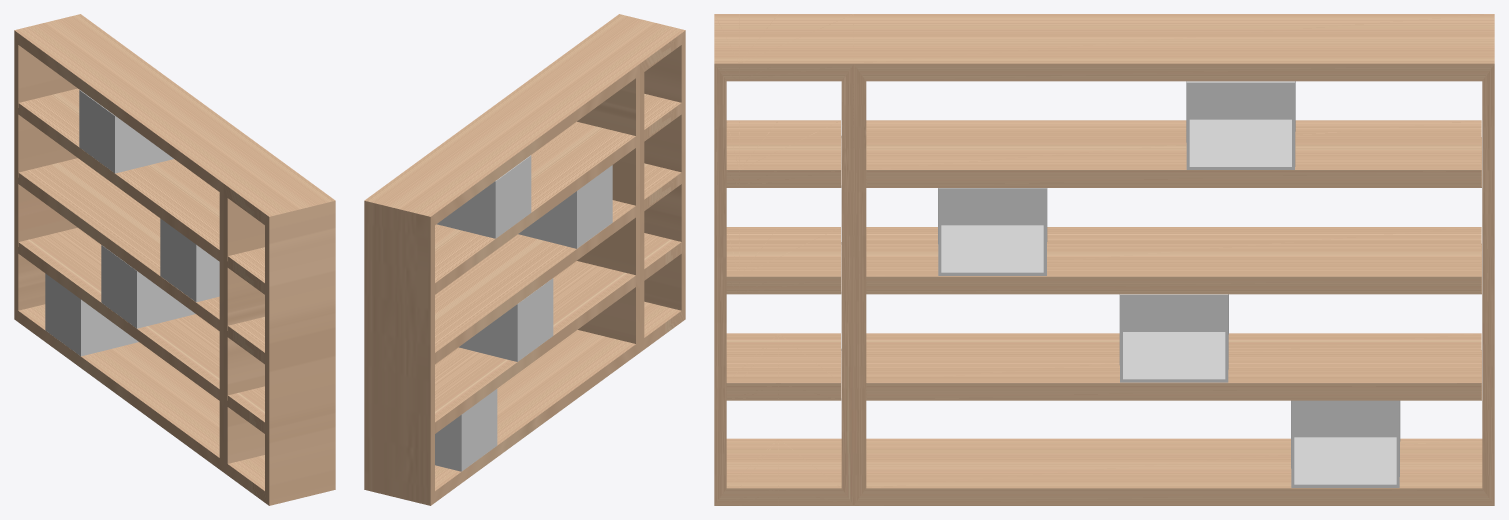
The picture shows the model from 3 angles, left to right: view 1: azimuth 30°, elevation 25°; view 2: azimuth 150°, elevation 25°; view 3: azimuth 270°, elevation 25°; orthographic projection. The views are drawn at different scales.
Visible parts, largest first — view 1: livingroom:livingroom_cabinet_big, livingroom:cube1, livingroom:cube3, livingroom:cube4, livingroom:cube2; view 2: livingroom:livingroom_cabinet_big, livingroom:cube3, livingroom:cube1, livingroom:cube2, livingroom:cube4; view 3: livingroom:livingroom_cabinet_big, livingroom:cube1, livingroom:cube3, livingroom:cube2, livingroom:cube4.
Boxes of the visible parts, bbox=[...] form: livingroom:livingroom_cabinet_big: bbox=[14, 14, 335, 505]; livingroom:cube1: bbox=[79, 90, 173, 173]; livingroom:cube3: bbox=[101, 245, 195, 328]; livingroom:cube4: bbox=[45, 273, 138, 356]; livingroom:cube2: bbox=[160, 218, 219, 302]; livingroom:livingroom_cabinet_big: bbox=[364, 14, 685, 505]; livingroom:cube3: bbox=[459, 278, 553, 361]; livingroom:cube1: bbox=[437, 155, 531, 238]; livingroom:cube2: bbox=[518, 165, 612, 248]; livingroom:cube4: bbox=[435, 389, 497, 471]; livingroom:livingroom_cabinet_big: bbox=[714, 14, 1494, 505]; livingroom:cube1: bbox=[1186, 81, 1295, 169]; livingroom:cube3: bbox=[1119, 294, 1228, 382]; livingroom:cube2: bbox=[938, 188, 1047, 275]; livingroom:cube4: bbox=[1291, 400, 1400, 487].
Bounding box in the file's own units: 4.33 × 17.97 × 28.74.
